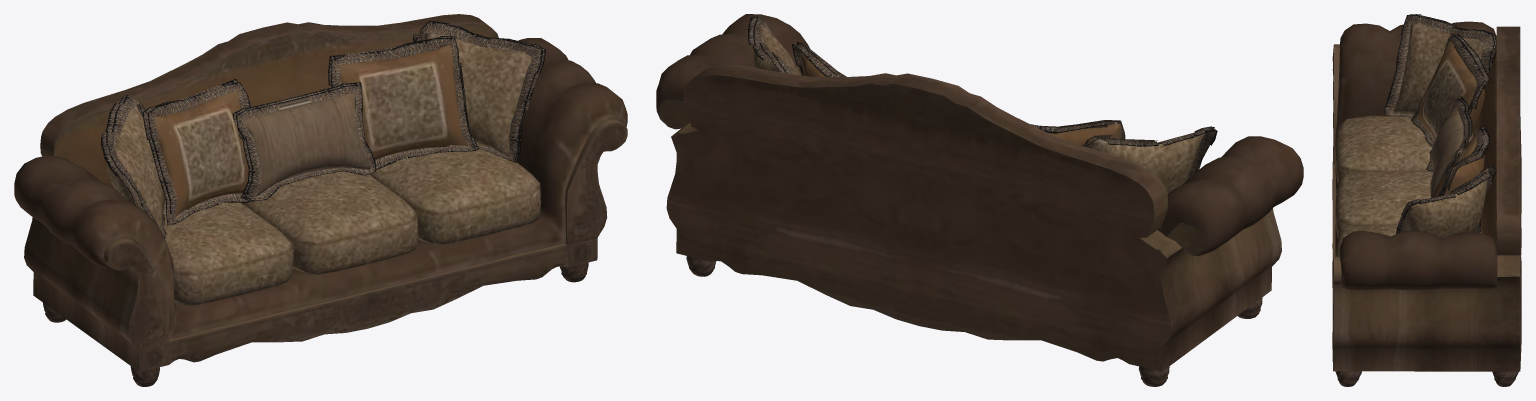
File: sofa_03.glb
The picture shows the model from 3 angles, left to right: view 1: azimuth 30°, elevation 25°; view 2: azimuth 150°, elevation 25°; view 3: azimuth 270°, elevation 25°; orthographic projection. The views are drawn at different scales.
Parts seen in each view (by area): view 1: sofa_03; view 2: sofa_03; view 3: sofa_03.
Part boxes in pixels (<box>): sofa_03: <box>14,14,627,386</box>; sofa_03: <box>656,14,1303,386</box>; sofa_03: <box>1332,14,1521,386</box>.
Size of the model in its own units: 2.73 by 1.12 by 0.9251.
2 materials, 2 textured.
